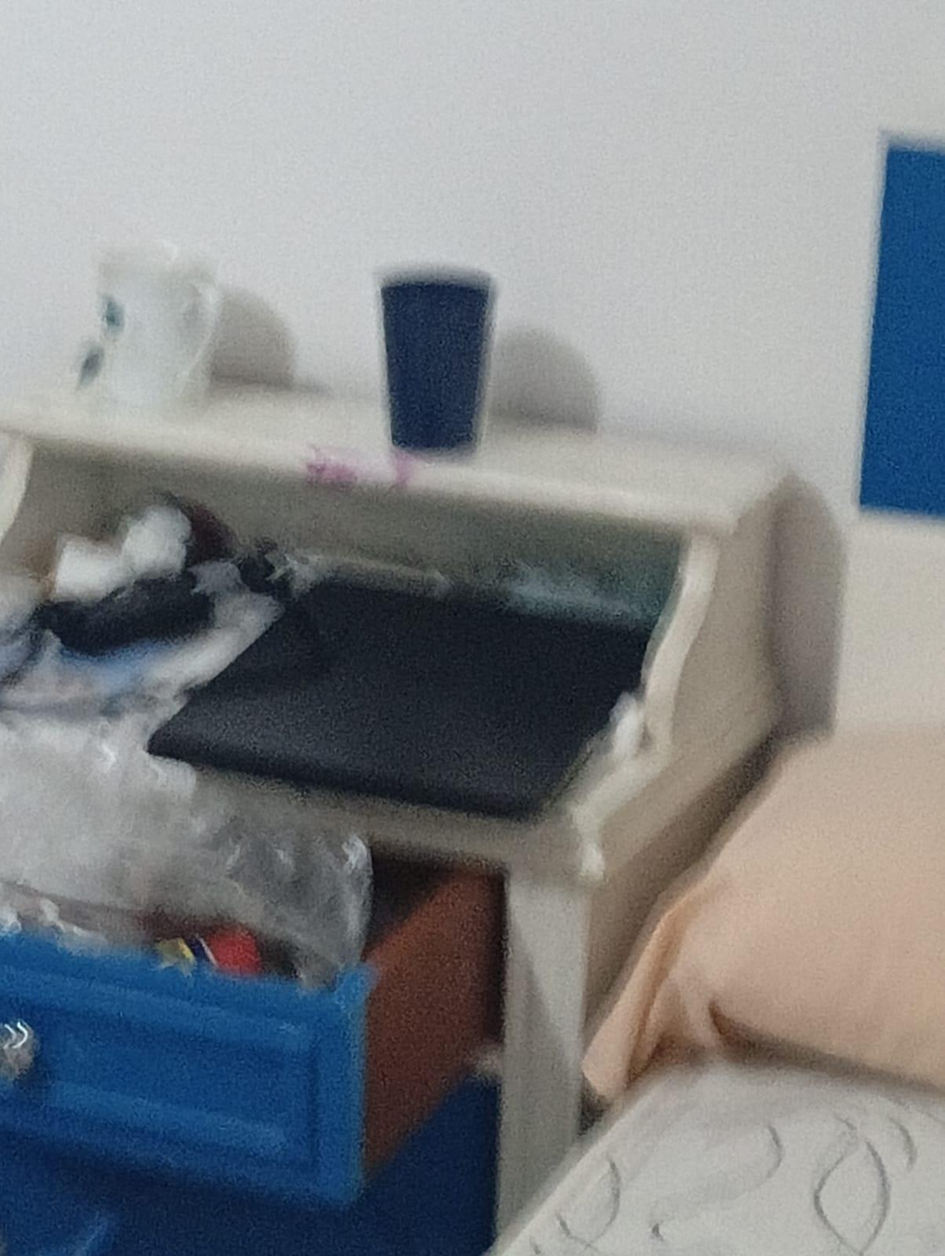cup: (92, 244, 218, 409), (381, 271, 492, 450)
